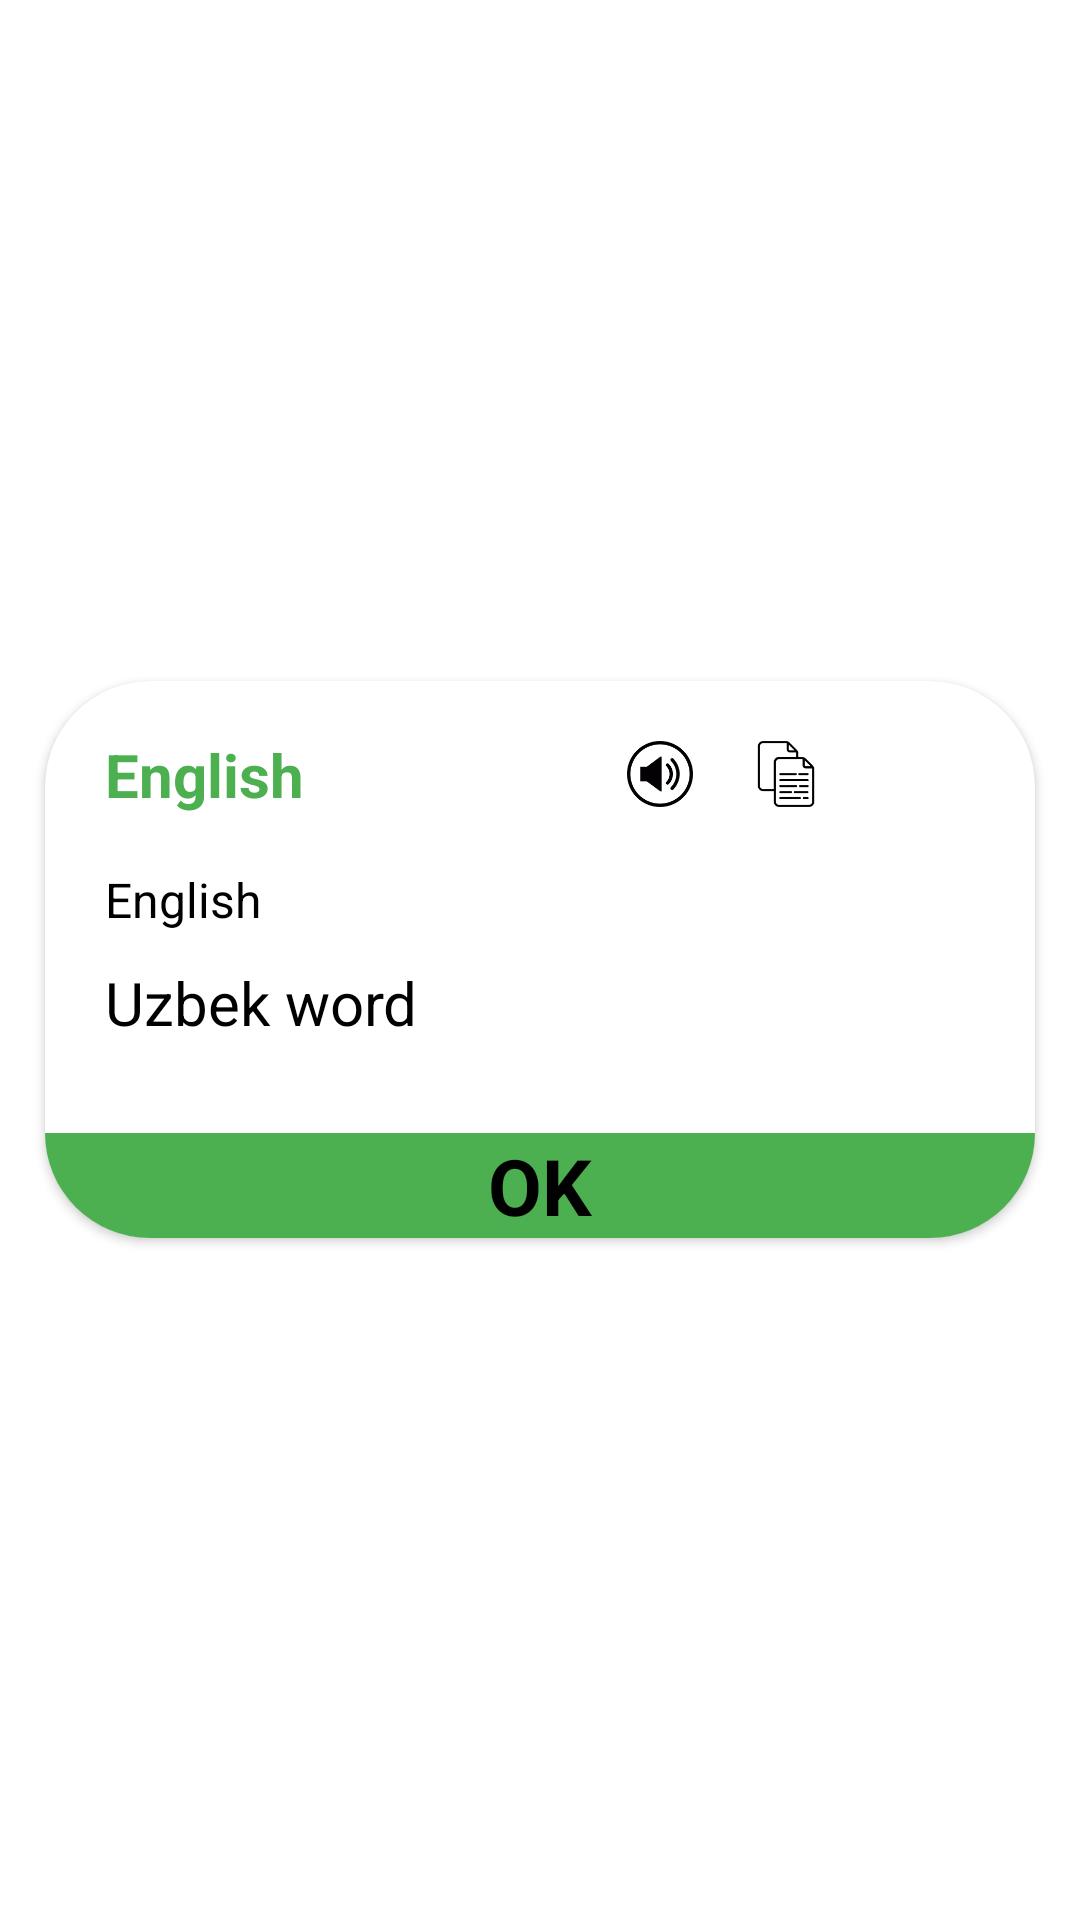

Screen size 1080px×1920px. Icon name, then its center in pixels as (x=x, y=y):
sound: (x=660, y=774)
